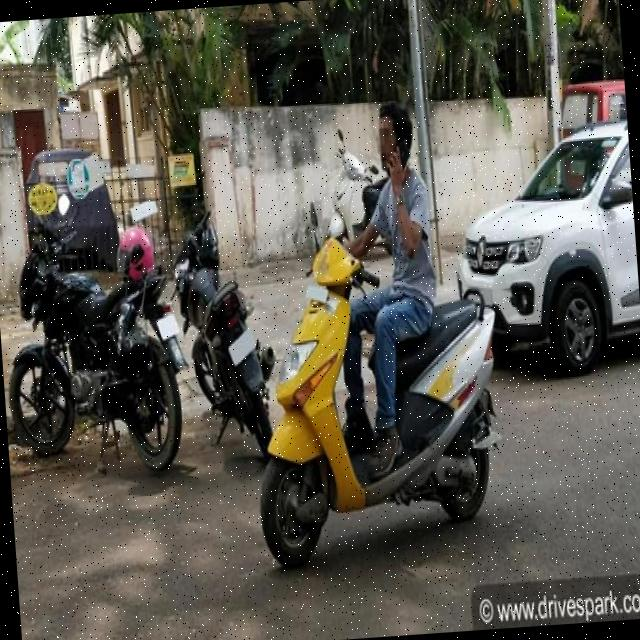Using mobile: (346, 92, 476, 266)
